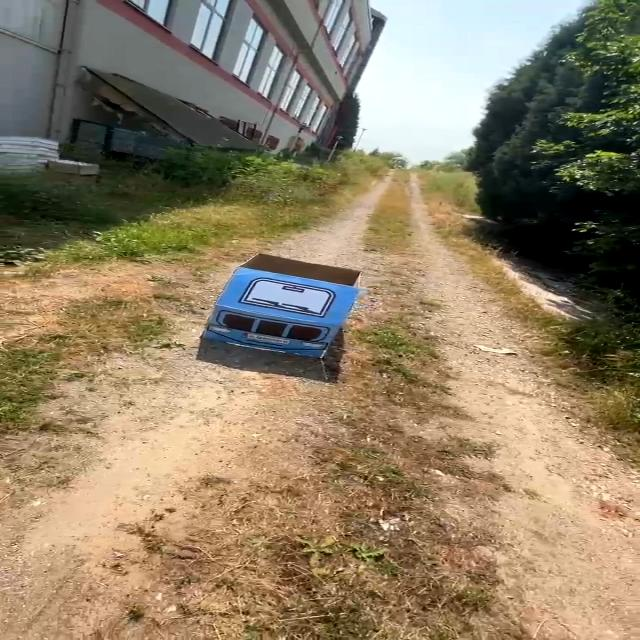blue_car: (181, 243, 373, 376)
